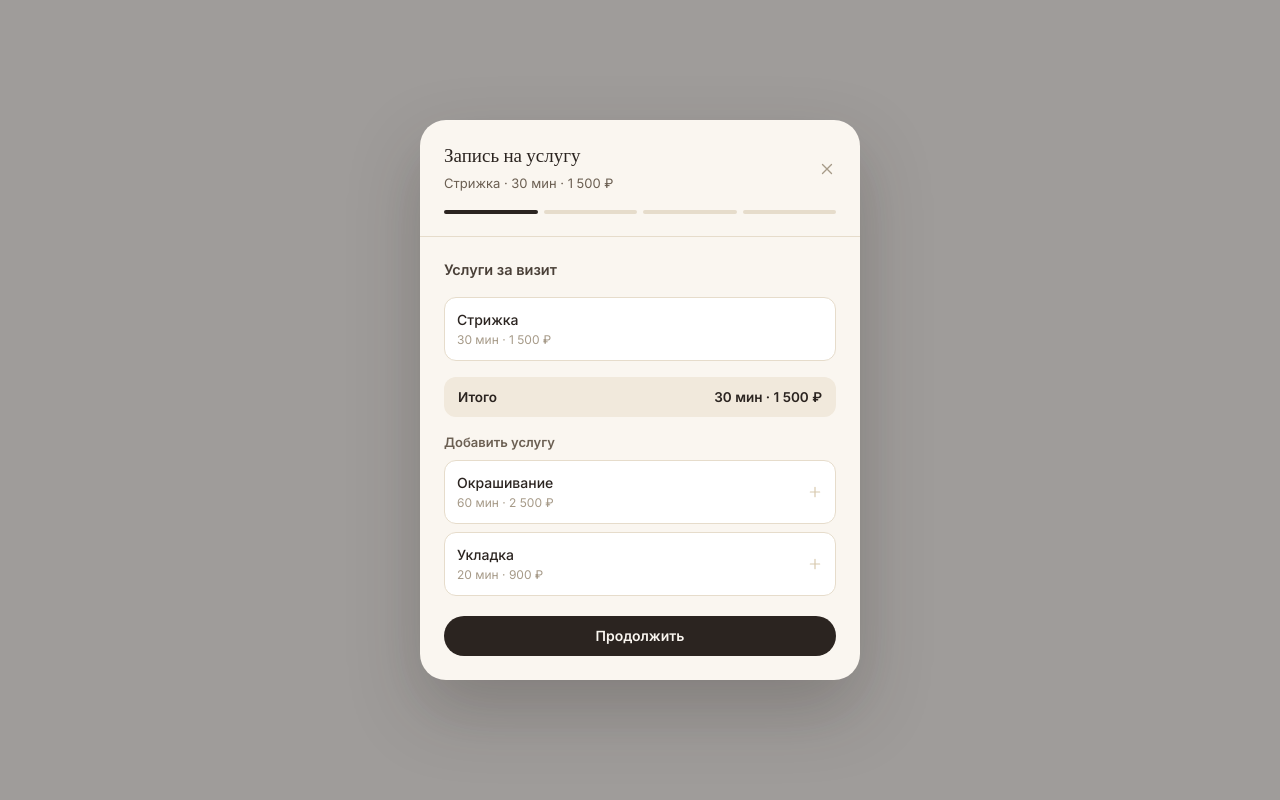
Test case: BookingModal — US-67 multiple services per visit › shows the summed duration and price once a second and third service are added
This screenshot has width=1280, height=800.
Check: the heading "Услуги за визит" is shown, box [444,261,557,278]
Click the text "Окрашивание": click(505, 483) [457,473,554,493]
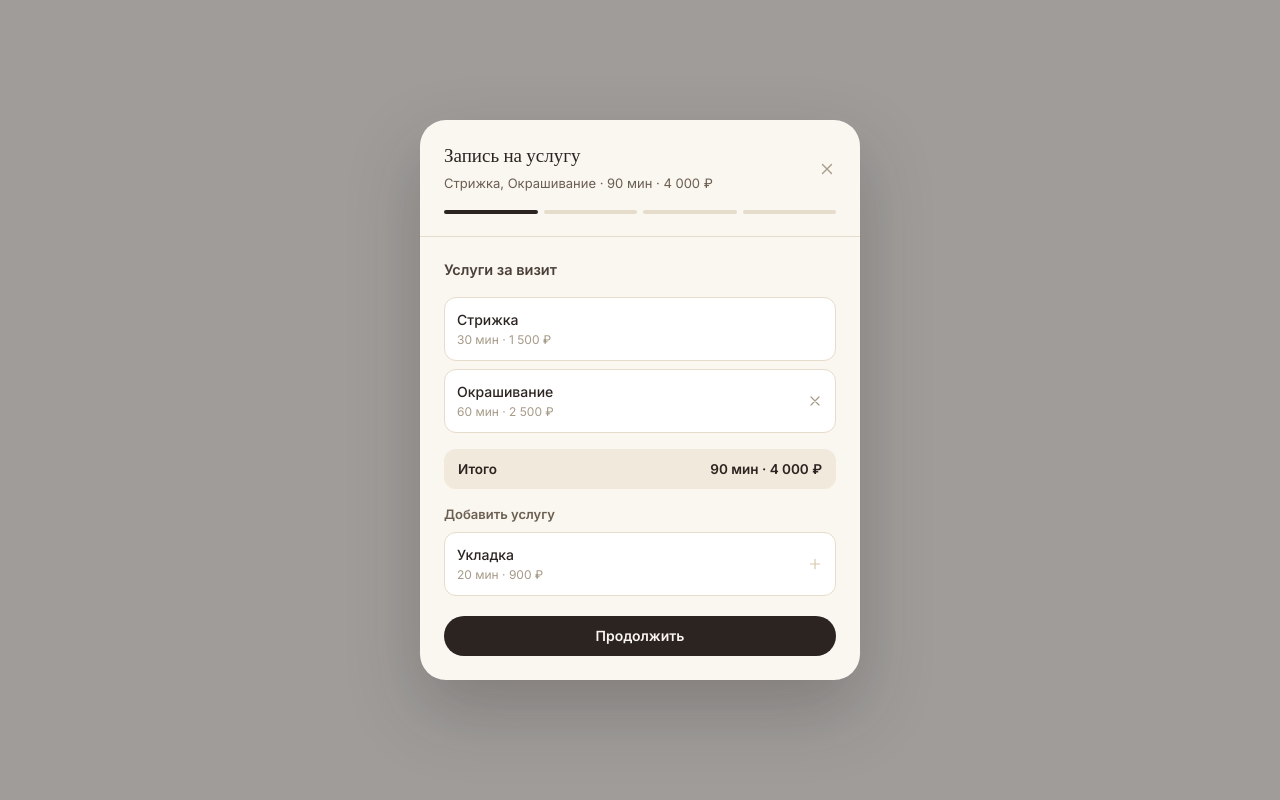
Click the text "Укладка": click(486, 555) [457,546,514,563]
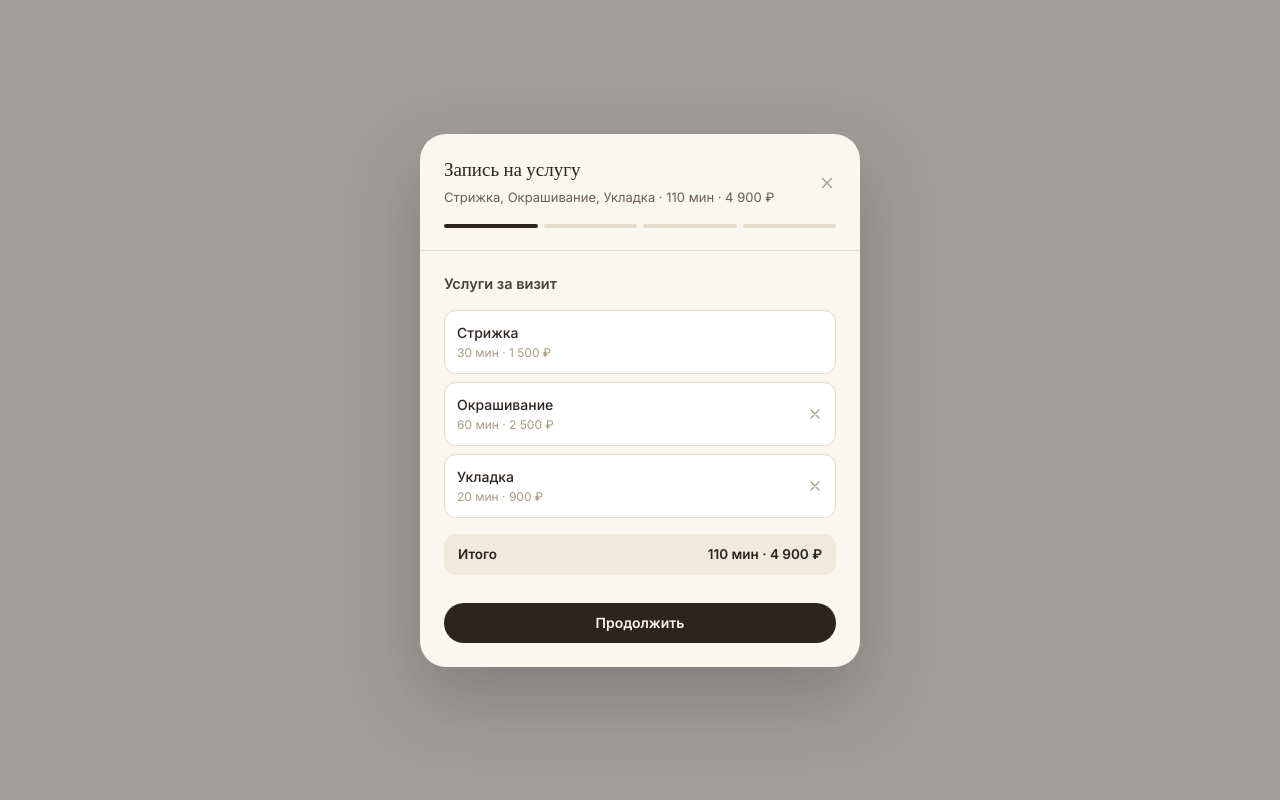
Check: the text "110 мин · 4 900 ₽" is shown, box [708,544,822,565]
